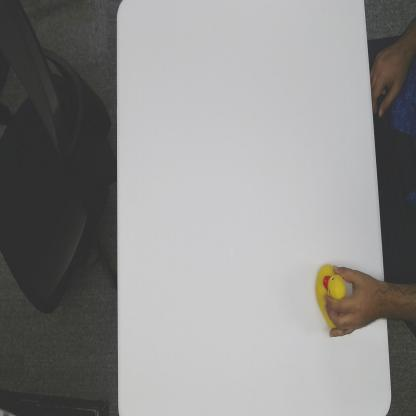Duck: (315, 262, 348, 332)
Hand: (324, 264, 384, 339)
